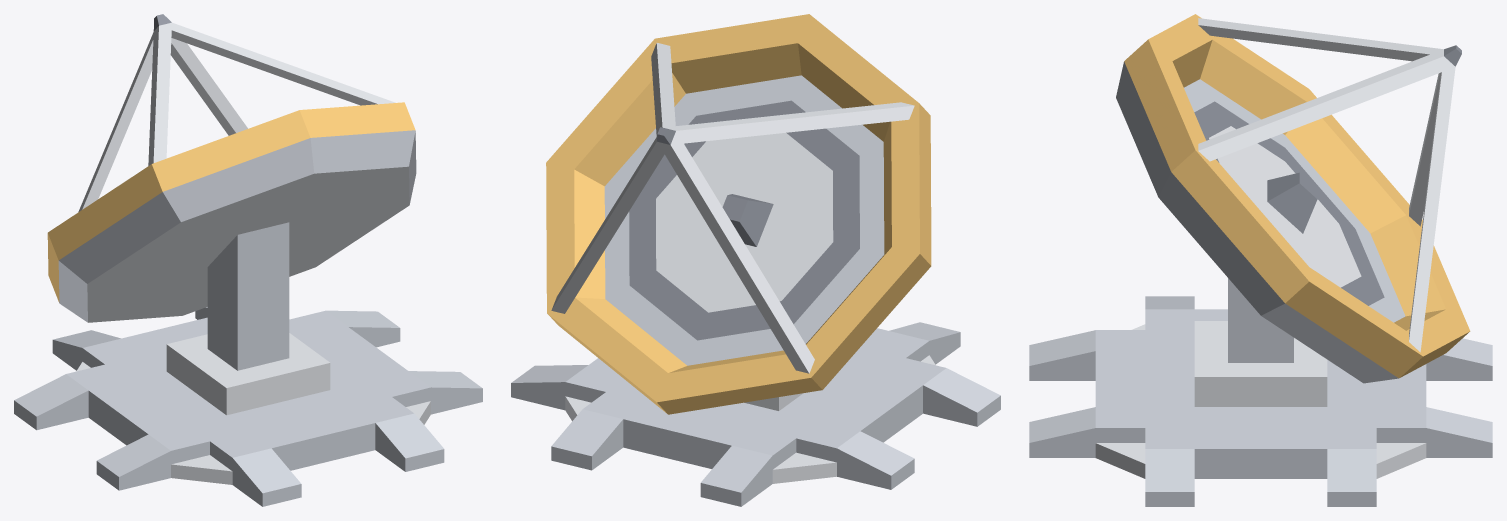
Rendered from satelliteDish_detailed.glb.
The picture shows the model from 3 angles, left to right: view 1: azimuth 30°, elevation 25°; view 2: azimuth 150°, elevation 25°; view 3: azimuth 270°, elevation 25°; orthographic projection. The views are drawn at different scales.
Parts seen in each view (by area): view 1: satelliteDish_detailed; view 2: satelliteDish_detailed; view 3: satelliteDish_detailed.
Boxes of the visible parts, box(x1,y1,x2,y2) form: satelliteDish_detailed: box(14, 14, 482, 506); satelliteDish_detailed: box(511, 14, 1000, 506); satelliteDish_detailed: box(1029, 14, 1492, 506).
Bounding box in the file's own units: 0.7 × 0.6165 × 0.7.
1 material, 1 textured.
